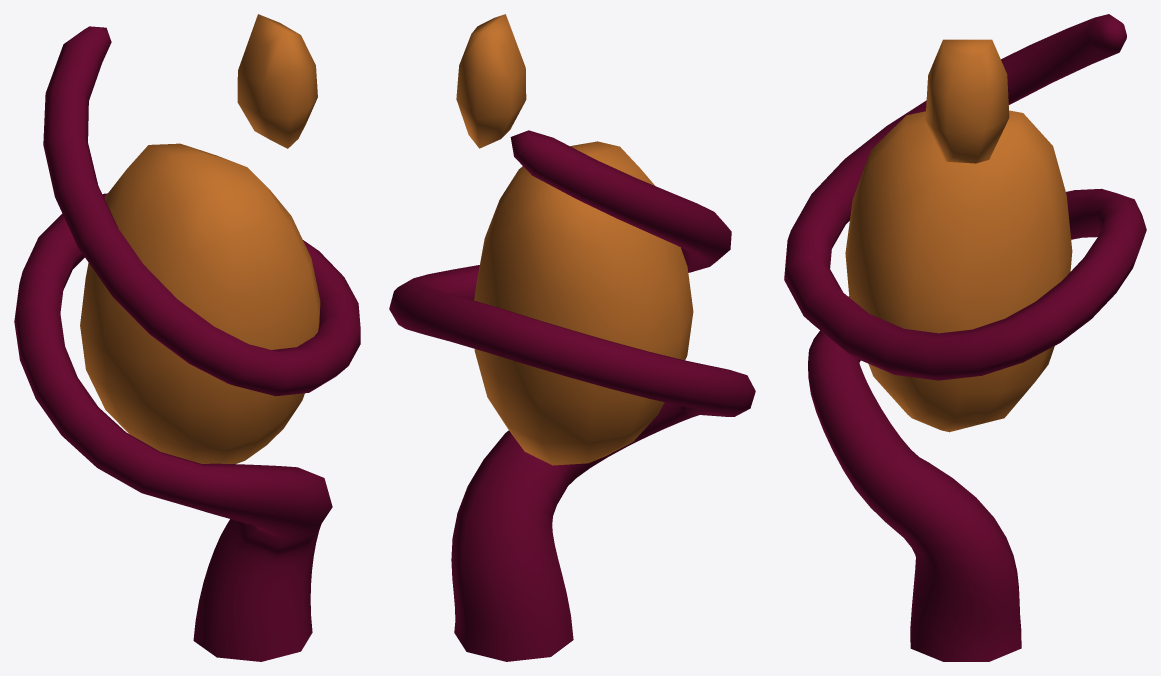
Rendered from Tree Lava 3.glb.
The picture shows the model from 3 angles, left to right: view 1: azimuth 30°, elevation 25°; view 2: azimuth 150°, elevation 25°; view 3: azimuth 270°, elevation 25°; orthographic projection.
Parts seen in each view (by area): view 1: Tree_Lava_3; view 2: Tree_Lava_3; view 3: Tree_Lava_3.
Part boxes in pixels (left/top/right/bottom): Tree_Lava_3: left=14, top=14, right=360, bottom=661; Tree_Lava_3: left=389, top=14, right=755, bottom=661; Tree_Lava_3: left=784, top=14, right=1146, bottom=661.
Bounding box in the file's own units: 1.12 × 2.09 × 1.13.
Materials: 1 (1 with a texture image).
